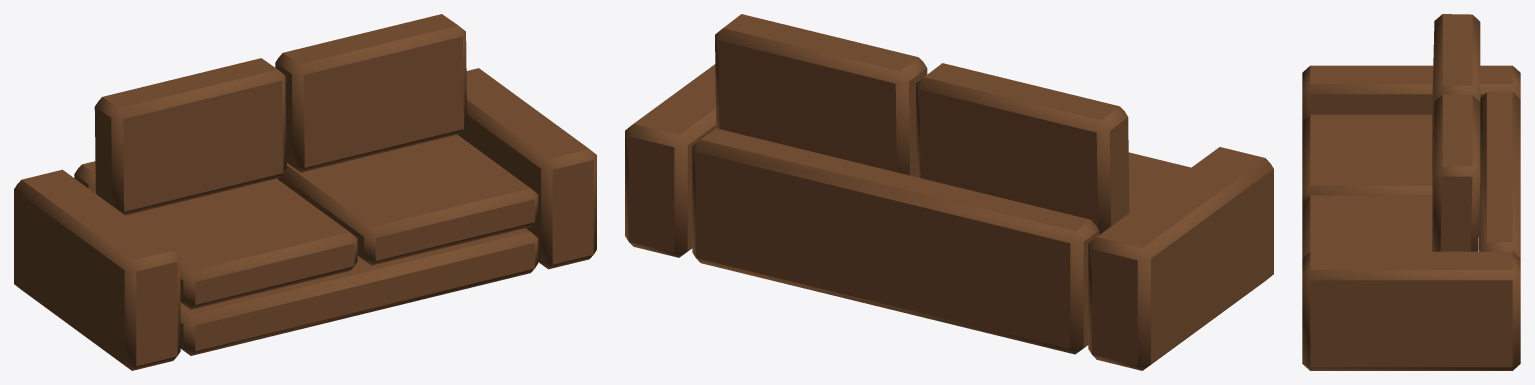
Rendered from cc0-sofa-lod0.glb.
3 views of the same model, side by side, from view 1: azimuth 30°, elevation 25°; view 2: azimuth 150°, elevation 25°; view 3: azimuth 270°, elevation 25° (orthographic). The views are drawn at different scales.
Parts seen in each view (by area): view 1: part_0; view 2: part_0; view 3: part_0.
Boxes of the visible parts, x1=… form: part_0: x1=14, y1=14, x2=596, y2=370; part_0: x1=625, y1=14, x2=1273, y2=370; part_0: x1=1302, y1=14, x2=1520, y2=370.
Size of the model in its own units: 3.35 by 1.32 by 1.46.
